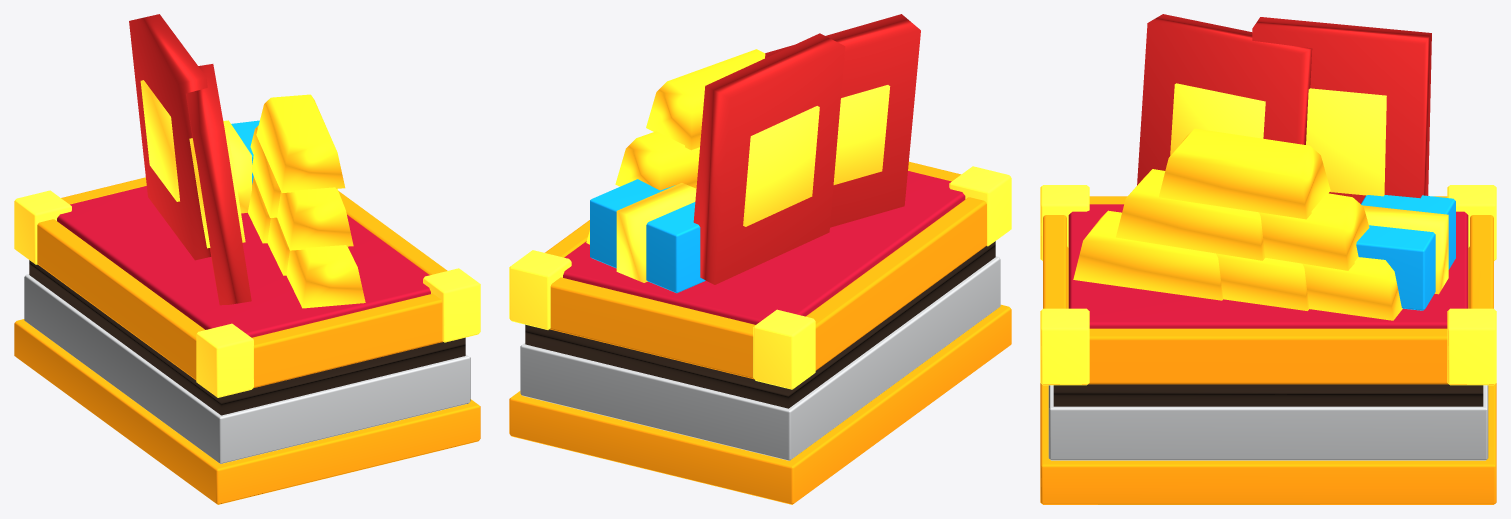
Rendered from wealth_tray_tier2.glb.
3 renders of one model, left to right at view 1: azimuth 30°, elevation 25°; view 2: azimuth 150°, elevation 25°; view 3: azimuth 270°, elevation 25°, orthographic. The views are drawn at different scales.
Parts seen in each view (by area): view 1: SanctuaryWealthTray_Tier2; view 2: SanctuaryWealthTray_Tier2; view 3: SanctuaryWealthTray_Tier2.
Part boxes in pixels (box(x1,y1,x2,y2)): SanctuaryWealthTray_Tier2: box(14, 14, 480, 504); SanctuaryWealthTray_Tier2: box(509, 14, 1011, 504); SanctuaryWealthTray_Tier2: box(1040, 14, 1496, 504).
Bounding box in the file's own units: 0.36 × 0.44 × 0.48.
